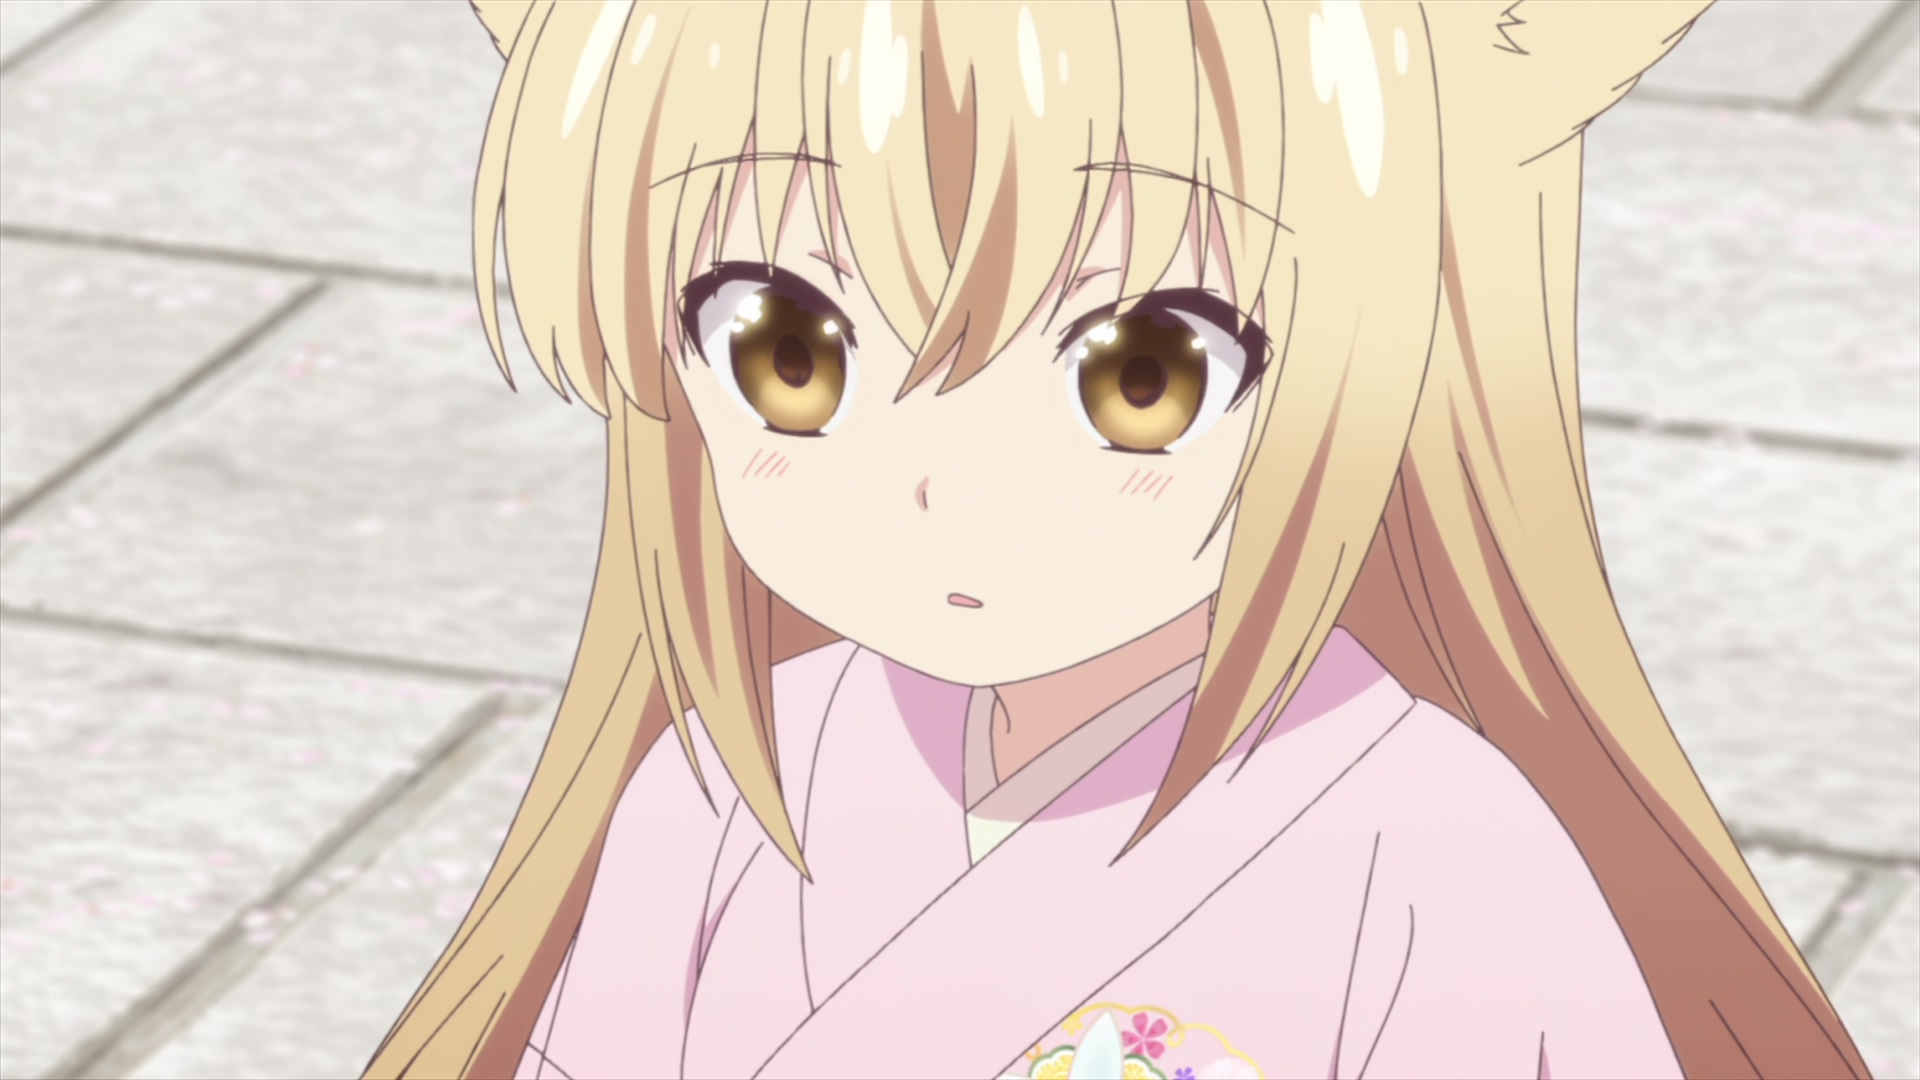柚: (357, 1, 1873, 1080)
